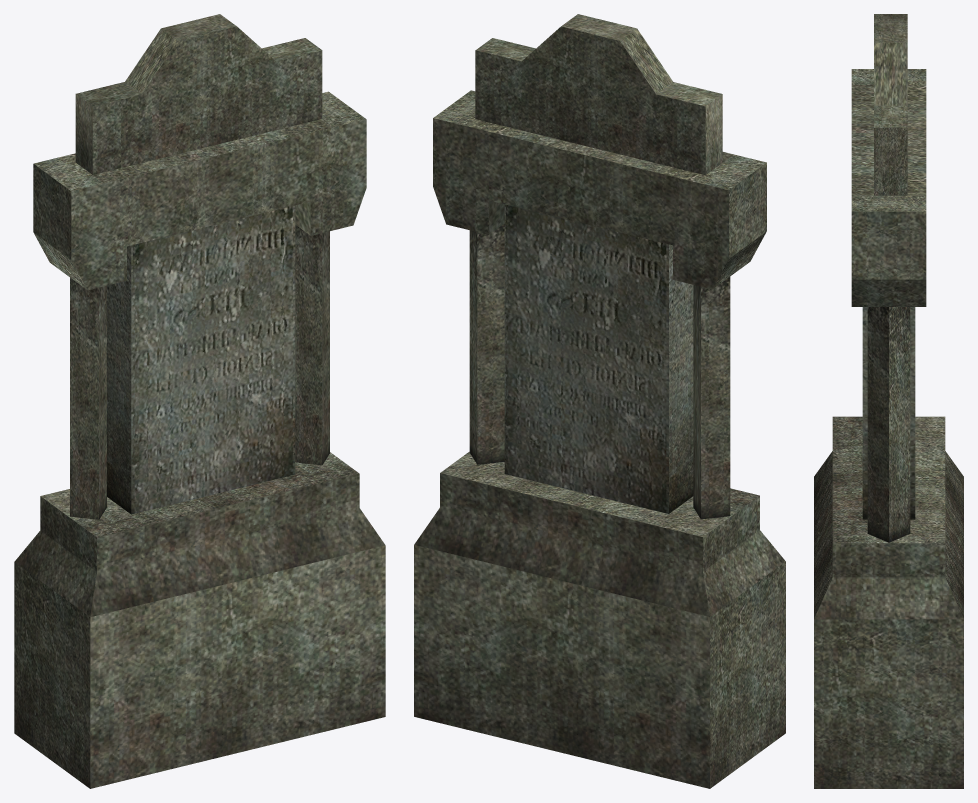
File: tombstone_small_04.fbx
3 renders of one model, left to right at view 1: azimuth 30°, elevation 25°; view 2: azimuth 150°, elevation 25°; view 3: azimuth 270°, elevation 25°, orthographic.
Visible parts, largest first — view 1: mesh_0, mesh_4, mesh_1, mesh_2, mesh_3; view 2: mesh_0, mesh_4, mesh_1, mesh_2, mesh_3; view 3: mesh_0, mesh_4, mesh_3, mesh_1.
Boxes of the visible parts, x1,y1,x2,y2 form: mesh_0: [14, 452, 385, 788]; mesh_4: [33, 14, 366, 290]; mesh_1: [107, 205, 295, 514]; mesh_2: [70, 277, 106, 519]; mesh_3: [295, 225, 329, 465]; mesh_0: [414, 451, 785, 788]; mesh_4: [433, 14, 766, 289]; mesh_1: [504, 204, 693, 513]; mesh_2: [693, 277, 730, 519]; mesh_3: [469, 223, 504, 464]; mesh_0: [814, 416, 963, 788]; mesh_4: [851, 14, 926, 306]; mesh_3: [867, 307, 910, 542]; mesh_1: [862, 307, 915, 519].
Bounding box in the file's own units: 90 × 203 × 40.
Materials: 2 (2 with a texture image).
